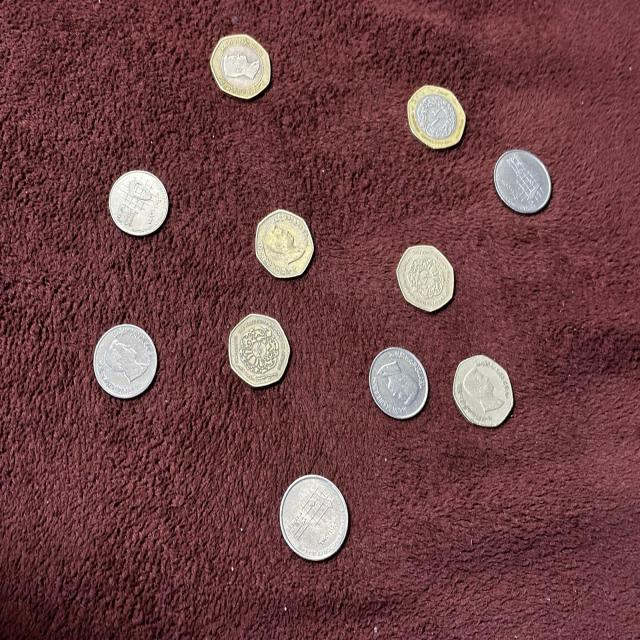10-coins: (279, 472, 351, 562), (494, 148, 553, 215)
25-coins: (228, 312, 291, 388), (451, 353, 515, 426), (395, 244, 456, 315), (254, 208, 314, 279)
5-coins: (92, 323, 159, 401), (369, 346, 429, 420), (108, 169, 170, 235)
50-coins: (210, 34, 271, 101), (406, 84, 467, 150)
